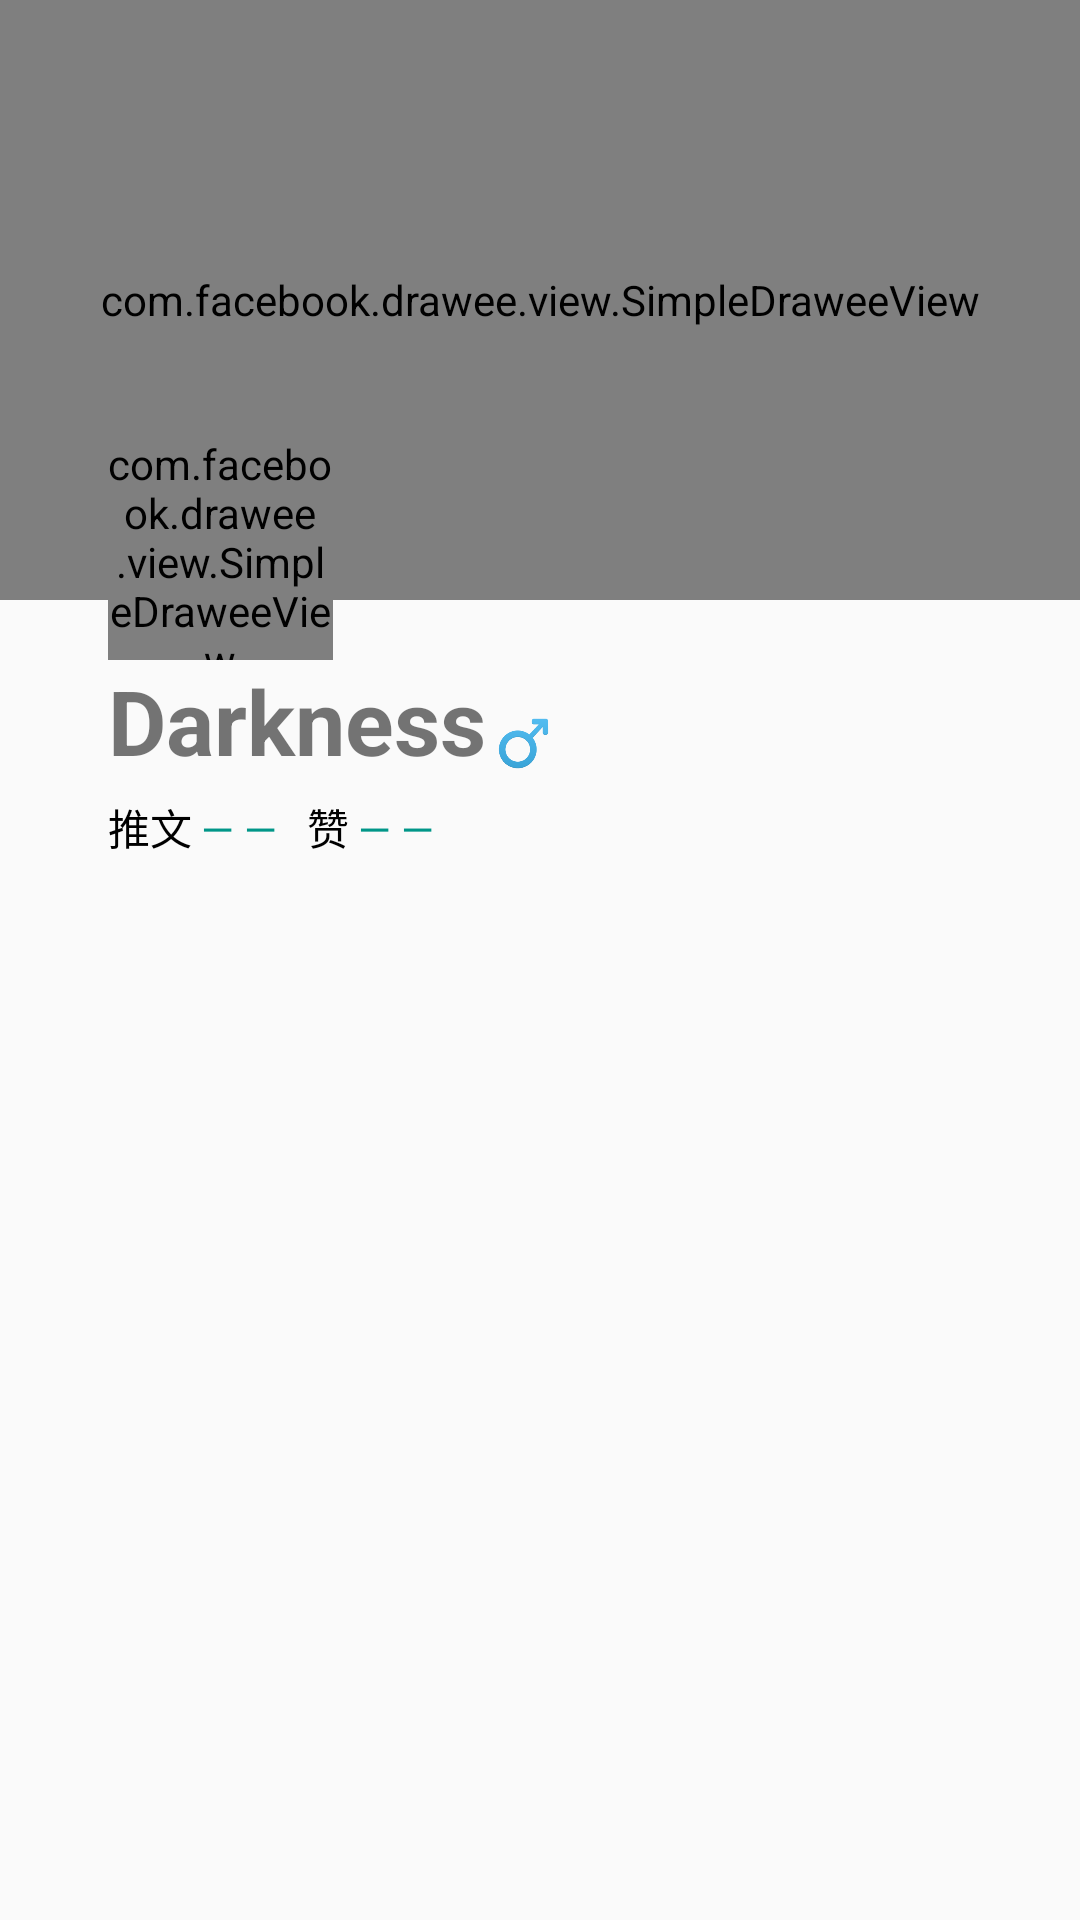

Icons on this 1080 x 1920 Android screen, each with its box as (x1, y1, x2, y2):
male: (499, 718, 548, 769)
